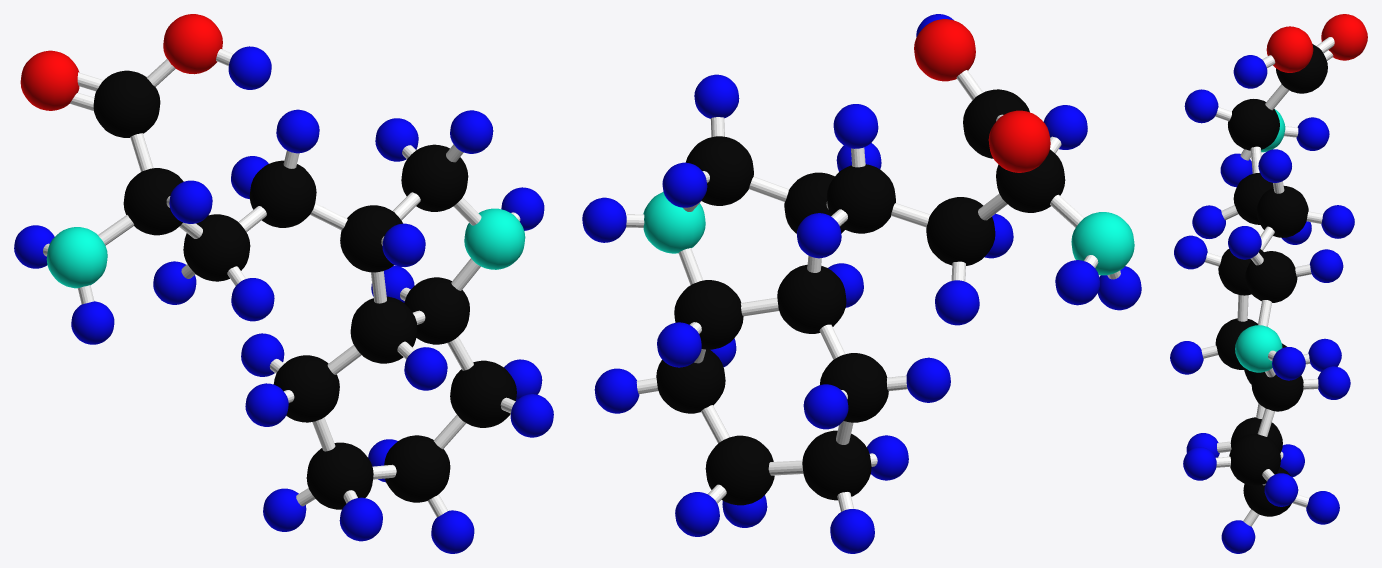
Rendered from triptofano.obj.
3 views of the same model, side by side, from view 1: azimuth 30°, elevation 25°; view 2: azimuth 150°, elevation 25°; view 3: azimuth 270°, elevation 25° (orthographic). The views are drawn at different scales.
Parts seen in each view (by area): view 1: Shape_Sphere.002_Shape_Sphere.003, Shape_Sphere.028_Shape_Sphere.029, Shape_Sphere.010_Shape_Sphere.011, Shape_Sphere.024_Shape_Sphere.025, Shape_Sphere.016_Shape_Sphere.017, Shape_Sphere.018_Shape_Sphere.019, Shape_Sphere.001_Shape_Sphere.002, Shape_Sphere.031_Shape_Sphere.032, Shape_Sphere.026_Shape_Sphere.027, Shape_Sphere.022_Shape_Sphere.023, Shape_Sphere.006_Shape_Sphere.007, Shape_Sphere_Shape_Sphere.001 (+25 smaller); view 2: Shape_Sphere.016_Shape_Sphere.017, Shape_Sphere.001_Shape_Sphere.002, Shape_Sphere.028_Shape_Sphere.029, Shape_Sphere.010_Shape_Sphere.011, Shape_Sphere.031_Shape_Sphere.032, Shape_Sphere.022_Shape_Sphere.023, Shape_Sphere.018_Shape_Sphere.019, Shape_Sphere.026_Shape_Sphere.027, Shape_Sphere.024_Shape_Sphere.025, Shape_Sphere.005_Shape_Sphere.006, Shape_Sphere.003_Shape_Sphere.004, Shape_Sphere.006_Shape_Sphere.007 (+23 smaller); view 3: Shape_Sphere_Shape_Sphere.001, Shape_Sphere.018_Shape_Sphere.019, Shape_Sphere.010_Shape_Sphere.011, Shape_Sphere.024_Shape_Sphere.025, Shape_Sphere.003_Shape_Sphere.004, Shape_Sphere.017_Shape_Sphere.018, Shape_Sphere.005_Shape_Sphere.006, Shape_Sphere.022_Shape_Sphere.023, Shape_Sphere.002_Shape_Sphere.003, Shape_Sphere.001_Shape_Sphere.002, Shape_Sphere.016_Shape_Sphere.017, Shape_Sphere.013_Shape_Sphere.014 (+24 smaller).
Part boxes in pixels (x1,y1,x2,y2): Shape_Sphere.002_Shape_Sphere.003: [93, 70, 160, 137]; Shape_Sphere.028_Shape_Sphere.029: [384, 435, 450, 502]; Shape_Sphere.010_Shape_Sphere.011: [249, 160, 316, 227]; Shape_Sphere.024_Shape_Sphere.025: [450, 360, 516, 427]; Shape_Sphere.016_Shape_Sphere.017: [350, 296, 417, 363]; Shape_Sphere.018_Shape_Sphere.019: [401, 144, 468, 211]; Shape_Sphere.001_Shape_Sphere.002: [183, 214, 250, 281]; Shape_Sphere.031_Shape_Sphere.032: [306, 442, 373, 509]; Shape_Sphere.026_Shape_Sphere.027: [273, 355, 339, 422]; Shape_Sphere.022_Shape_Sphere.023: [404, 277, 469, 344]; Shape_Sphere.006_Shape_Sphere.007: [46, 227, 107, 288]; Shape_Sphere_Shape_Sphere.001: [123, 168, 183, 235]; Shape_Sphere.016_Shape_Sphere.017: [777, 264, 846, 333]; Shape_Sphere.001_Shape_Sphere.002: [926, 197, 995, 265]; Shape_Sphere.028_Shape_Sphere.029: [705, 435, 774, 505]; Shape_Sphere.010_Shape_Sphere.011: [826, 164, 895, 233]; Shape_Sphere.031_Shape_Sphere.032: [802, 430, 871, 500]; Shape_Sphere.022_Shape_Sphere.023: [674, 280, 743, 349]; Shape_Sphere.018_Shape_Sphere.019: [685, 136, 753, 205]; Shape_Sphere.026_Shape_Sphere.027: [820, 353, 888, 422]; Shape_Sphere.024_Shape_Sphere.025: [656, 349, 725, 413]; Shape_Sphere.005_Shape_Sphere.006: [988, 110, 1050, 172]; Shape_Sphere.003_Shape_Sphere.004: [914, 19, 975, 81]; Shape_Sphere.006_Shape_Sphere.007: [1071, 212, 1134, 275]; Shape_Sphere_Shape_Sphere.001: [1228, 99, 1279, 150]; Shape_Sphere.018_Shape_Sphere.019: [1245, 251, 1297, 302]; Shape_Sphere.010_Shape_Sphere.011: [1256, 186, 1308, 237]; Shape_Sphere.024_Shape_Sphere.025: [1229, 433, 1280, 485]; Shape_Sphere.003_Shape_Sphere.004: [1266, 26, 1313, 72]; Shape_Sphere.017_Shape_Sphere.018: [1235, 325, 1282, 372]; Shape_Sphere.005_Shape_Sphere.006: [1321, 14, 1367, 60]; Shape_Sphere.022_Shape_Sphere.023: [1251, 372, 1303, 411]; Shape_Sphere.002_Shape_Sphere.003: [1276, 44, 1327, 93]; Shape_Sphere.001_Shape_Sphere.002: [1233, 172, 1273, 224]; Shape_Sphere.016_Shape_Sphere.017: [1215, 318, 1257, 369]; Shape_Sphere.013_Shape_Sphere.014: [1218, 249, 1263, 295].
Size of the model in its own units: 8.9 by 9.44 by 3.86.
